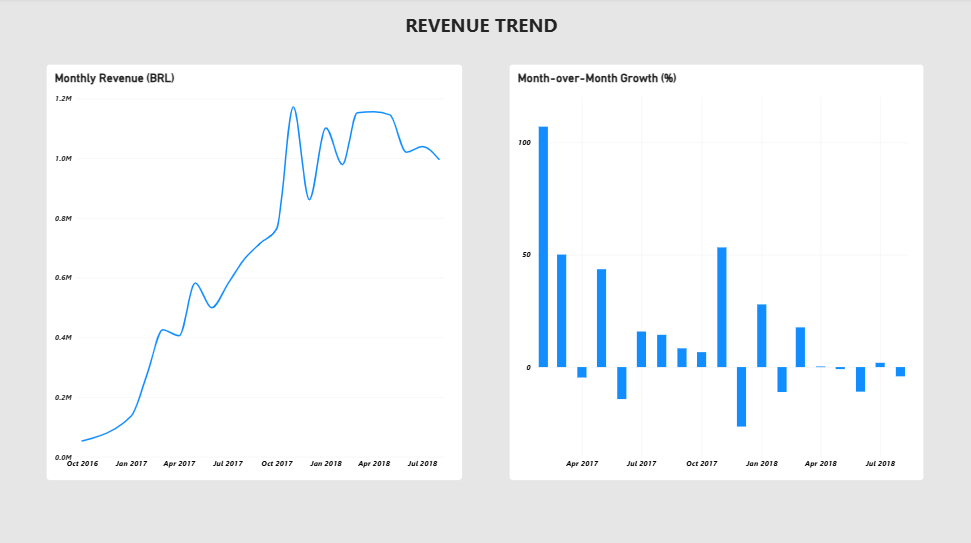

What the dashboard file says about the page in this screenshot:
{"tool":"powerbi","page":{"name":"Page 1","canvas":[1920,1080],"ordinal":0},"visuals":[{"type":"lineChart","title":"Monthly Revenue (BRL)","fields":{"Category":["MART_MONTHLY_REVENUE.ORDER_MONTH"],"Y":["Sum(MART_MONTHLY_REVENUE.TOTAL_REVENUE)"]},"box":[90,130,817.5,817.5],"z":0},{"type":"clusteredColumnChart","title":"Month-over-Month Growth (%)","fields":{"Category":["MART_MONTHLY_REVENUE.ORDER_MONTH"],"Y":["Sum(MART_MONTHLY_REVENUE.REVENUE_GROWTH_PCT)"]},"box":[1000,130,815,817.5],"z":1000},{"type":"textbox","box":[702.5,27.5,595,132.5],"z":1001}]}

Visuals, with their boxes in screenshot pixels (x1, y1, x2, y2), scaled from the page's 1920x1080 canvas onto the 971x543 screenshot:
"Monthly Revenue (BRL)" lineChart: locate(46, 65, 459, 476)
"Month-over-Month Growth (%)" clusteredColumnChart: locate(506, 65, 918, 476)
textbox: locate(355, 14, 656, 80)
